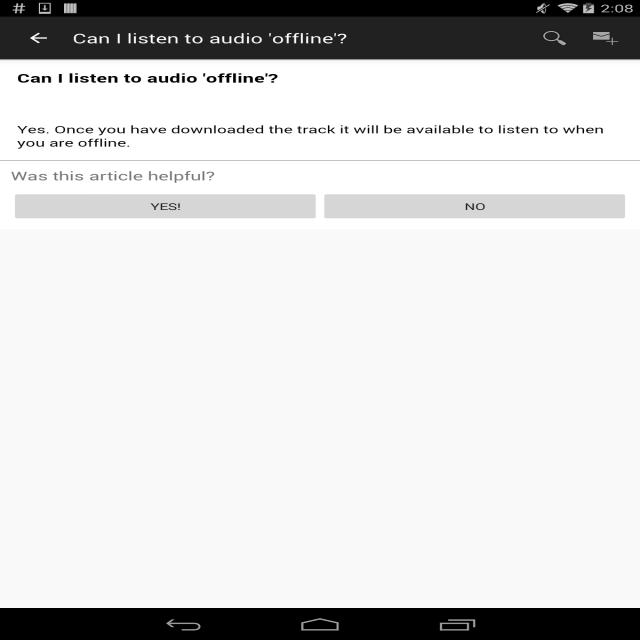Button: (328, 190, 629, 224), (13, 190, 321, 223)
ImageButton: (537, 27, 572, 49), (588, 27, 624, 48), (23, 30, 59, 49)
TextView: (13, 119, 620, 152), (66, 29, 358, 53), (13, 69, 290, 93)
